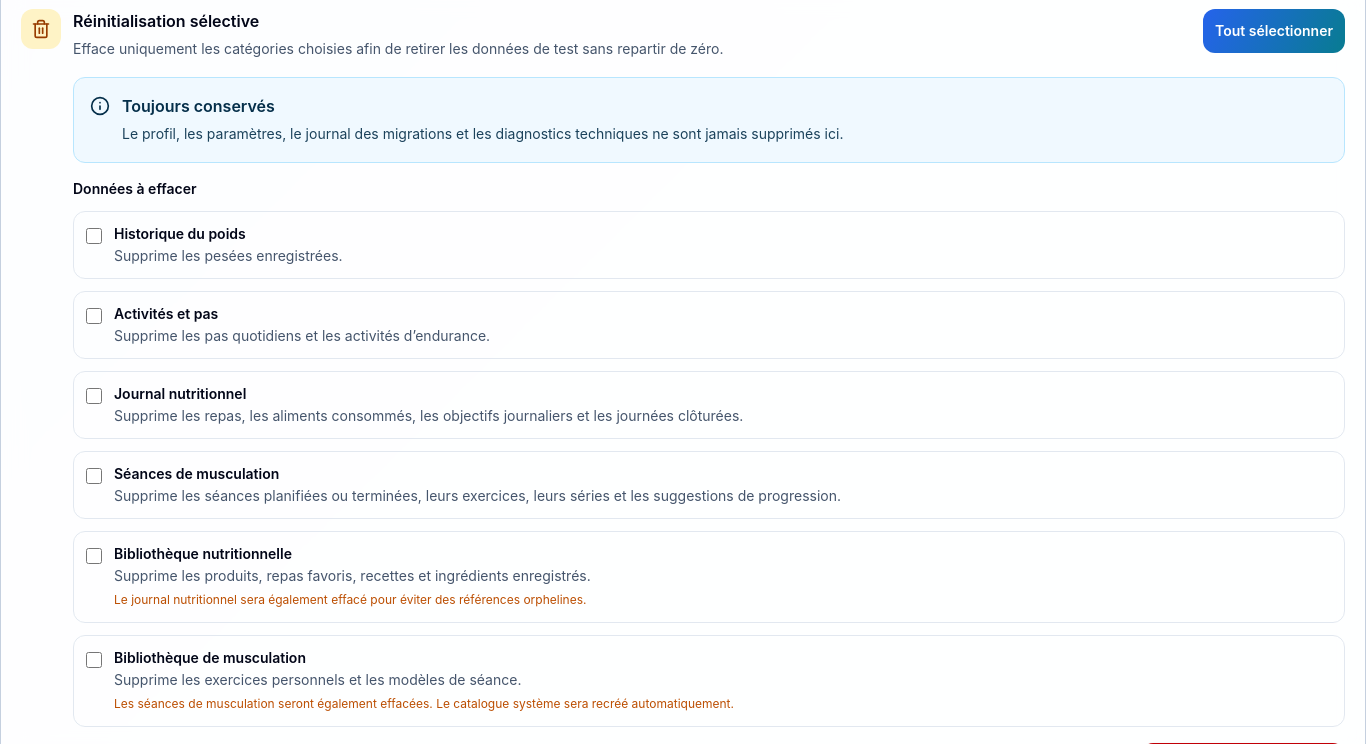
Test case: SelectiveDataResetPanel › conserve une erreur de suppression sur la surface
This screenshot has width=1366, height=744.
What coordinates should you click on to do the following:
click the checkbox labelled "Activités et pas"
I would click on:
 (94, 316)
Its box is [86,308,102,324].
(page scrolled)
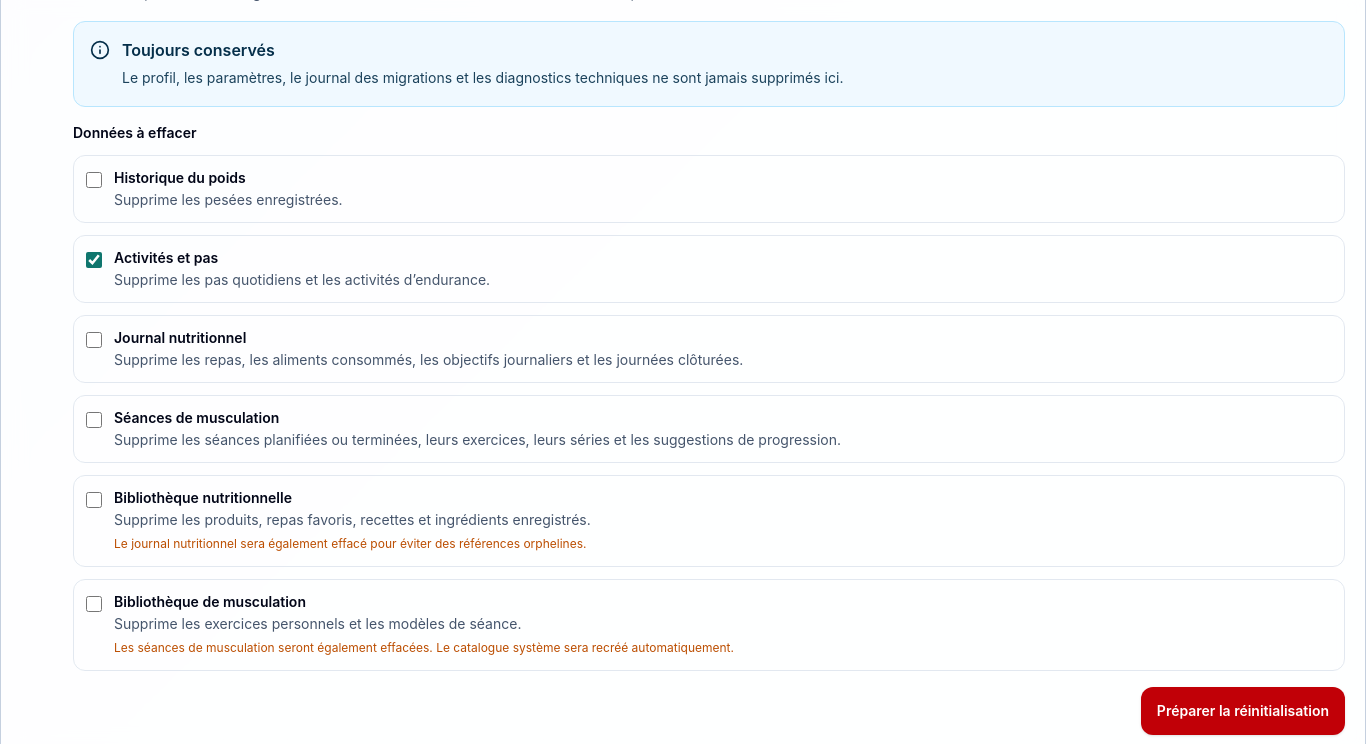
What coordinates should you click on to do the following:
click the button "Préparer la réinitialisation"
I would click on:
 (1243, 711)
Its box is [1141,687,1345,735].
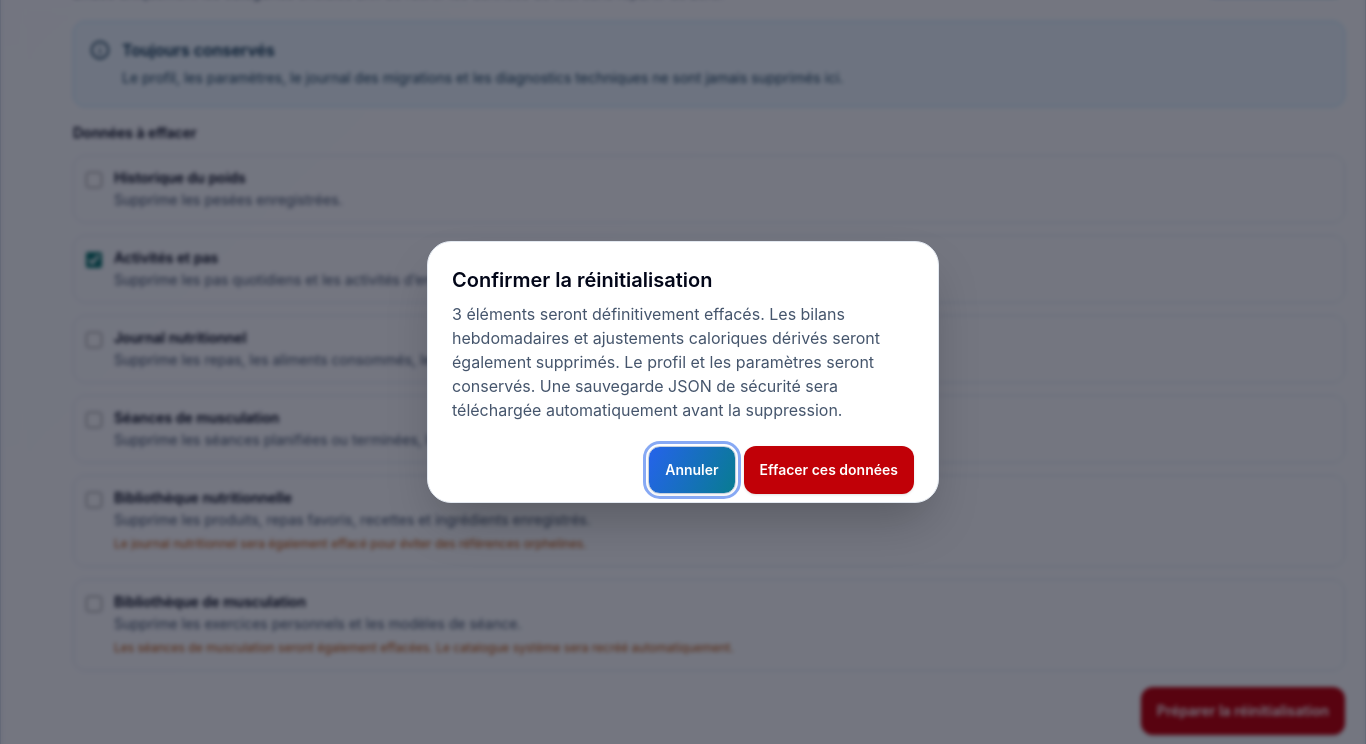
Expected: the heading "Confirmer la réinitialisation" is shown, [452,268,712,292]
What coordinates should you click on to do the following:
click the button "Effacer ces données"
I would click on:
 (829, 470)
Its box is [744,446,914,494].
(page scrolled)
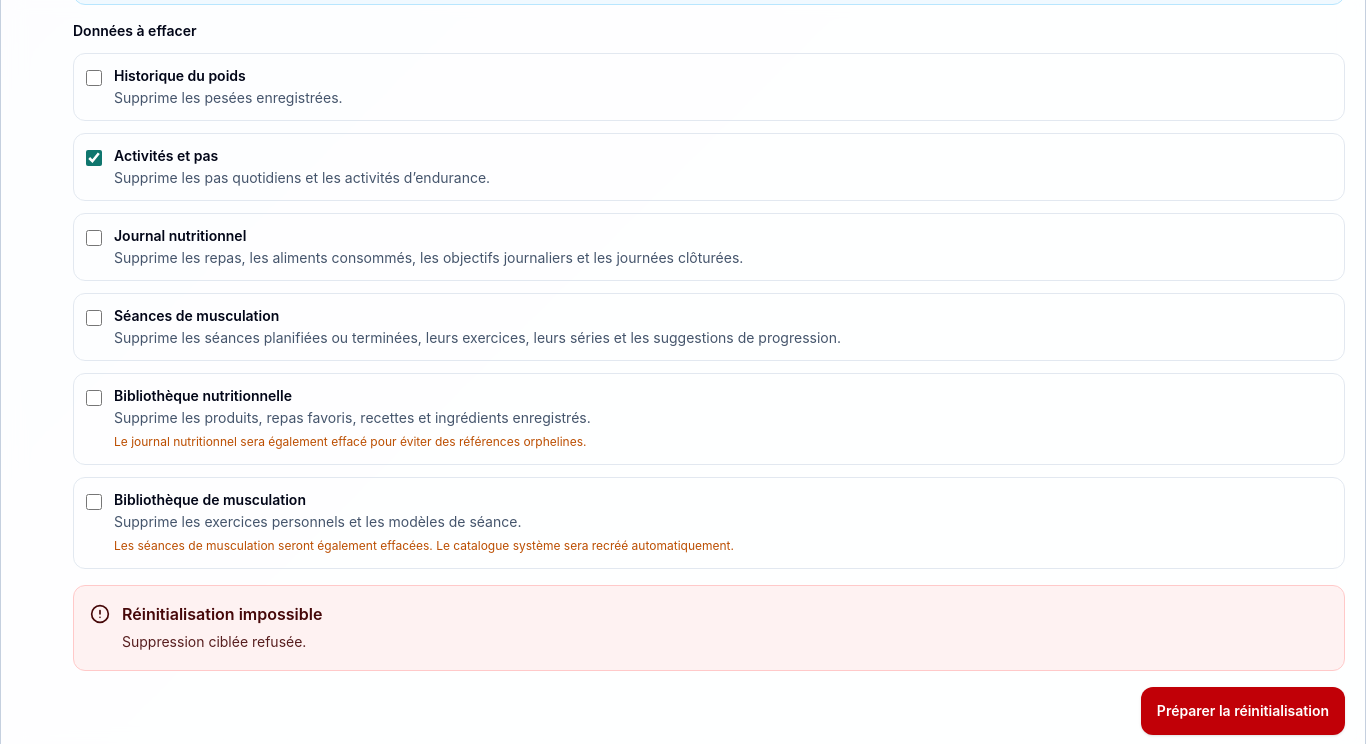
Expected: the message shows "Suppression ciblée refusée.", [122,633,306,650]
